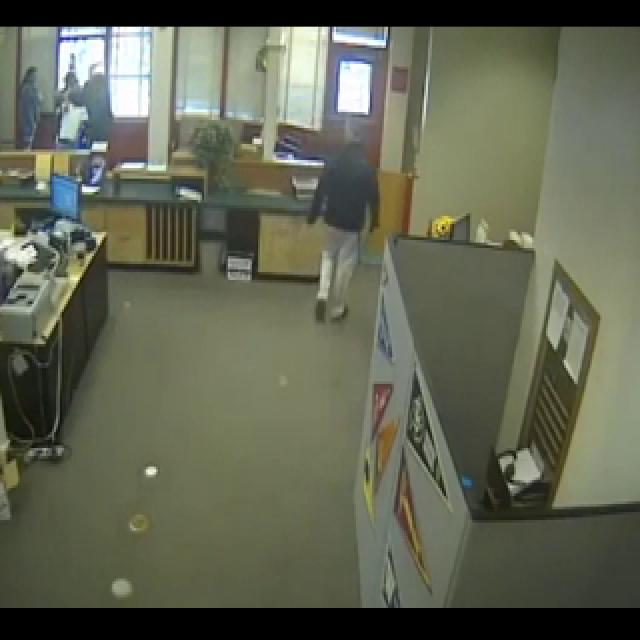arrest: (0, 23, 242, 259)
